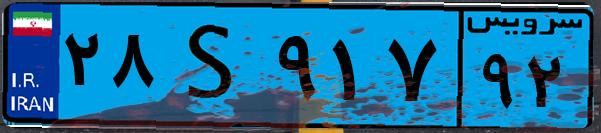1: (330, 28, 385, 110)
2: (57, 26, 110, 100), (525, 38, 570, 115)
7: (385, 28, 445, 110)
8: (110, 28, 158, 98)
9: (270, 28, 330, 110), (475, 38, 525, 113)
S: (158, 12, 270, 120)
